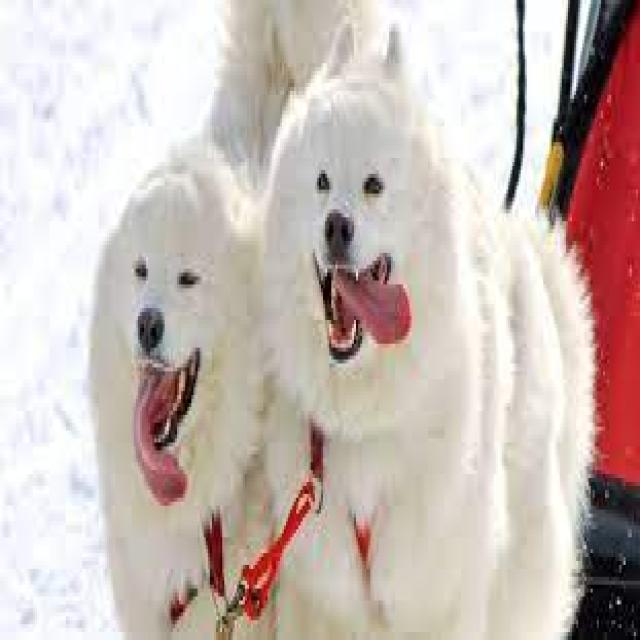dogs: (261, 14, 603, 640), (87, 0, 276, 640)
